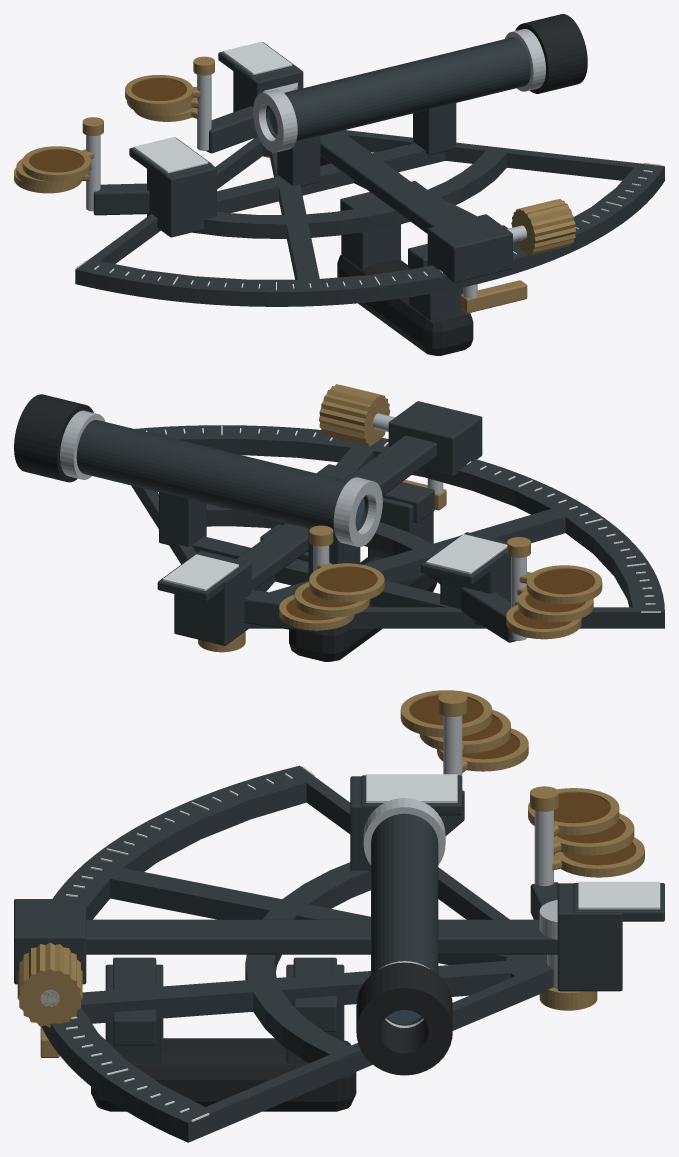
File: A-NEW-20261026-SEXTANT-001_LOD1_R5.fbx
3 renders of one model, top to bottom at view 1: azimuth 30°, elevation 25°; view 2: azimuth 150°, elevation 25°; view 3: azimuth 270°, elevation 25°, orthographic. The views are drawn at different scales.
Parts seen in each view (by area): view 1: open cast lattice sector frame, telescope hollow barrel, index arm, arc carriage, rear hand grip, horizon mirror foot, rear eyecup, grooved micrometer drum, scope rim, rear grip attachment, scope fixed support.001, scope fixed support (+17 smaller); view 2: open cast lattice sector frame, telescope hollow barrel, index arm, arc carriage, index mirror foot, rear eyecup, grooved micrometer drum, rear hand grip, scope rim, scope fixed support.001, horizon mirror face, horizon mirror foot (+23 smaller); view 3: open cast lattice sector frame, index arm, telescope hollow barrel, rear hand grip, rear eyecup, index mirror foot, grooved micrometer drum, arc carriage, rear grip casting bridge.001, horizon mirror face, index mirror face, rear grip casting bridge (+22 smaller).
Boxes of the visible parts, box(x1,y1,x2,y2) form: open cast lattice sector frame: box(75, 130, 664, 306); telescope hollow barrel: box(266, 37, 530, 141); index arm: box(320, 131, 462, 233); arc carriage: box(427, 214, 512, 282); rear hand grip: box(337, 255, 473, 355); horizon mirror foot: box(147, 165, 216, 237); rear eyecup: box(515, 14, 587, 93); grooved micrometer drum: box(511, 199, 576, 255); scope rim: box(253, 89, 297, 152); rear grip attachment: box(341, 224, 400, 269); scope fixed support.001: box(413, 102, 456, 155); scope fixed support: box(277, 135, 320, 186); open cast lattice sector frame: box(131, 425, 664, 628); telescope hollow barrel: box(76, 420, 368, 534); index arm: box(236, 435, 436, 589); arc carriage: box(388, 401, 482, 476); index mirror foot: box(174, 550, 251, 645); rear eyecup: box(14, 394, 93, 482); grooved micrometer drum: box(319, 384, 390, 446); rear hand grip: box(289, 556, 437, 661); scope rim: box(333, 477, 382, 546); scope fixed support.001: box(159, 491, 206, 547); horizon mirror face: box(426, 534, 507, 574); horizon mirror foot: box(440, 532, 510, 624); open cast lattice sector frame: box(41, 765, 553, 1142); index arm: box(86, 919, 557, 954); telescope hollow barrel: box(371, 813, 438, 1025); rear hand grip: box(91, 1038, 356, 1111); rear eyecup: box(356, 962, 452, 1075); index mirror foot: box(557, 883, 622, 991); grooved micrometer drum: box(17, 942, 82, 1027); arc carriage: box(14, 899, 86, 984); rear grip casting bridge.001: box(113, 957, 156, 1045); horizon mirror face: box(366, 774, 457, 802); index mirror face: box(578, 881, 660, 909); rear grip casting bridge: box(293, 957, 336, 1031).
Size of the model in its own units: 35.08 by 12.2 by 27.
